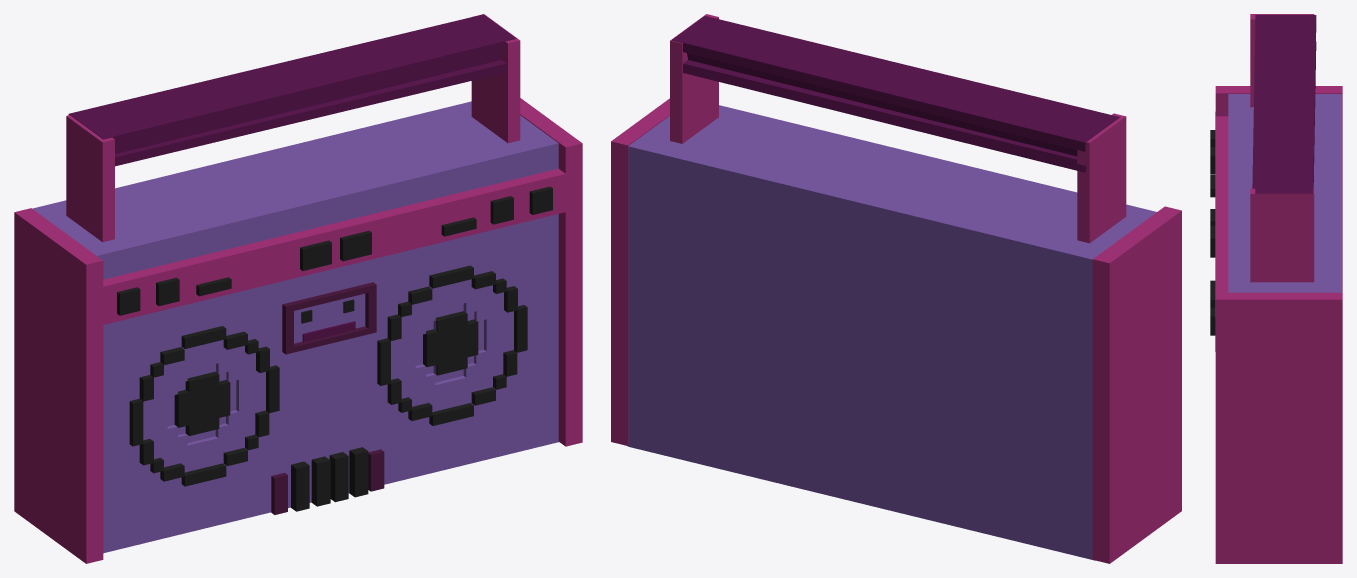
The model's file is Boombox.fbx.
3 renders of one model, left to right at view 1: azimuth 30°, elevation 25°; view 2: azimuth 150°, elevation 25°; view 3: azimuth 270°, elevation 25°, orthographic. The views are drawn at different scales.
Visible parts, largest first — view 1: pCube83; view 2: pCube83; view 3: pCube83.
Part boxes in pixels (x1=…): pCube83: x1=14, y1=14, x2=582, y2=563; pCube83: x1=611, y1=14, x2=1181, y2=563; pCube83: x1=1210, y1=14, x2=1342, y2=563.
Size of the model in its own units: 37.99 by 29.23 by 9.93.
